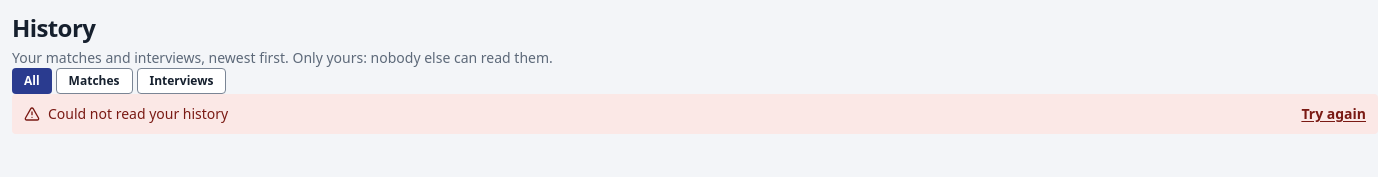
Test case: a history that failed to load can be asked again
expect the message shows "Could not read your history": met, box x1=48 y1=104 x2=228 y2=123
What coordinates should you click on to do the following:
click the button "Try again"
I would click on:
 (1334, 114)
Its box is x1=1301 y1=104 x2=1366 y2=124.
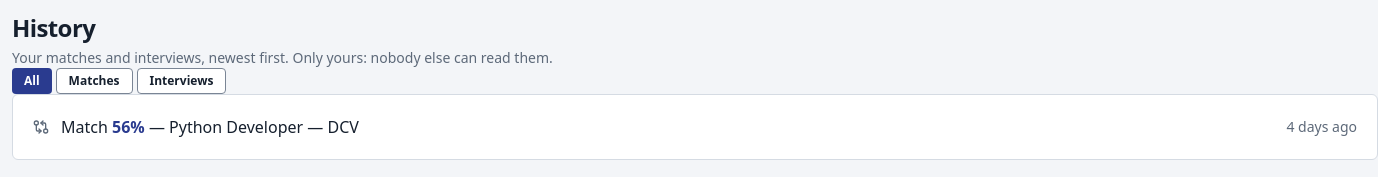
expect the link "Match 56% — Python Developer — DCV" is shown: met, box x1=61 y1=116 x2=359 y2=138
